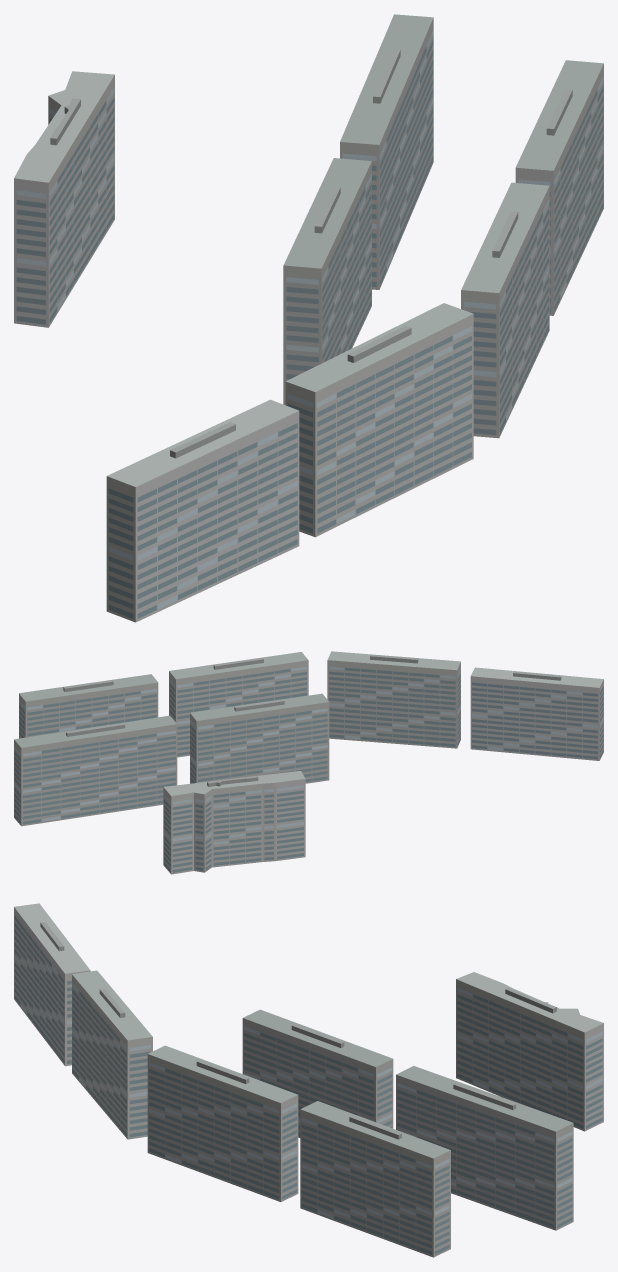
Rendered from apt-a13972601.glb.
The picture shows the model from 3 angles, top to bottom: view 1: azimuth 30°, elevation 25°; view 2: azimuth 150°, elevation 25°; view 3: azimuth 270°, elevation 25°; orthographic projection. The views are drawn at different scales.
Parts seen in each view (by area): view 1: apt-a13972601; view 2: apt-a13972601; view 3: apt-a13972601.
Boxes of the visible parts, <box> form: apt-a13972601: <box>14,14,603,622</box>; apt-a13972601: <box>14,651,603,874</box>; apt-a13972601: <box>14,903,603,1257</box>.
Size of the model in its own units: 259 by 47.81 by 247.
